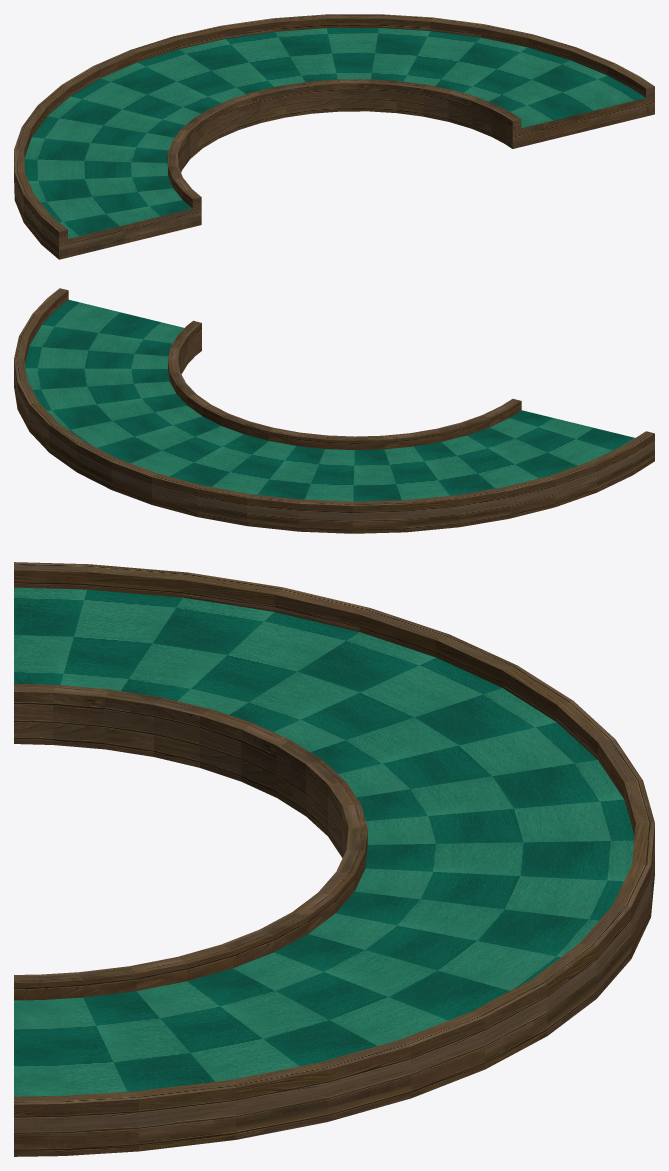
File: PartBigCurveLowPoly.gltf
3 views of the same model, one above another, from view 1: azimuth 30°, elevation 25°; view 2: azimuth 150°, elevation 25°; view 3: azimuth 270°, elevation 25° (orthographic). The views are drawn at different scales.
Parts seen in each view (by area): view 1: PartBigCurveLowPoly_grass_glb, PartBigCurveLowPoly_wood_glb; view 2: PartBigCurveLowPoly_grass_glb, PartBigCurveLowPoly_wood_glb; view 3: PartBigCurveLowPoly_grass_glb, PartBigCurveLowPoly_wood_glb.
Boxes of the visible parts, bbox=[...] form: PartBigCurveLowPoly_grass_glb: bbox=[24, 28, 645, 238]; PartBigCurveLowPoly_wood_glb: bbox=[14, 14, 654, 259]; PartBigCurveLowPoly_grass_glb: bbox=[25, 299, 634, 501]; PartBigCurveLowPoly_wood_glb: bbox=[14, 288, 654, 533]; PartBigCurveLowPoly_grass_glb: bbox=[14, 587, 634, 1096]; PartBigCurveLowPoly_wood_glb: bbox=[14, 562, 654, 1156].
Size of what is drawn, in the model's own units: 16.73 by 0.75 by 8.35.
2 materials, 2 textured.
